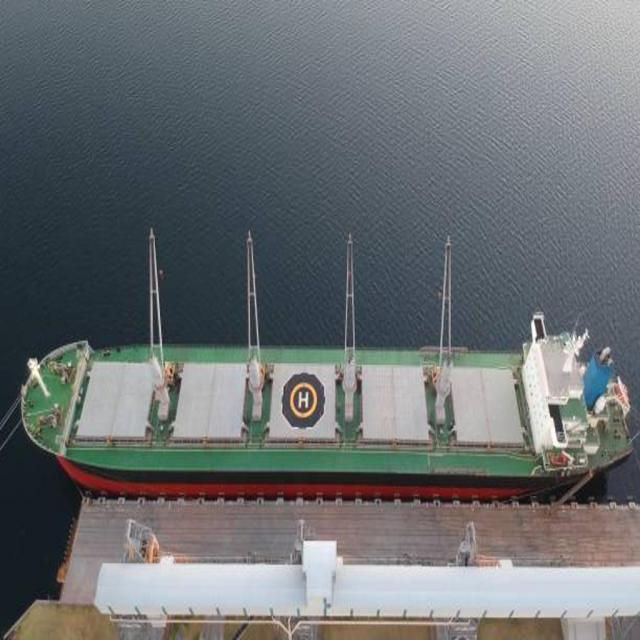helipad: (289, 382, 317, 417)
